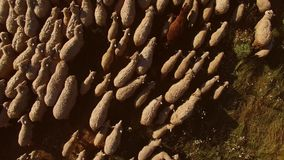sheep: (170, 87, 202, 126), (51, 74, 78, 119), (44, 59, 69, 105), (5, 57, 31, 99), (58, 24, 85, 63), (90, 89, 114, 132), (113, 50, 140, 87), (167, 3, 192, 42), (6, 80, 29, 119), (252, 9, 274, 49), (133, 5, 155, 45), (115, 74, 146, 102), (135, 36, 156, 75), (25, 43, 46, 80), (39, 6, 60, 42), (140, 93, 162, 126), (103, 120, 124, 154), (45, 19, 63, 55), (29, 85, 46, 123), (174, 49, 196, 78), (12, 14, 27, 54), (137, 137, 163, 160), (61, 128, 81, 157), (193, 19, 211, 50), (65, 1, 80, 38), (161, 48, 182, 74), (209, 20, 228, 48), (100, 38, 117, 69), (1, 43, 15, 79), (18, 115, 33, 147), (115, 28, 132, 56), (80, 70, 96, 97), (107, 11, 118, 41), (214, 80, 229, 101), (232, 1, 246, 23), (1, 31, 11, 54)
